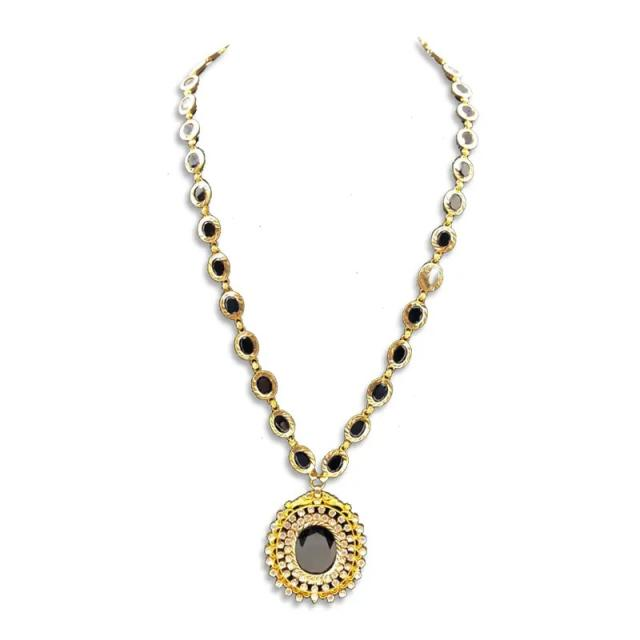missing gem: (422, 266, 440, 288)
